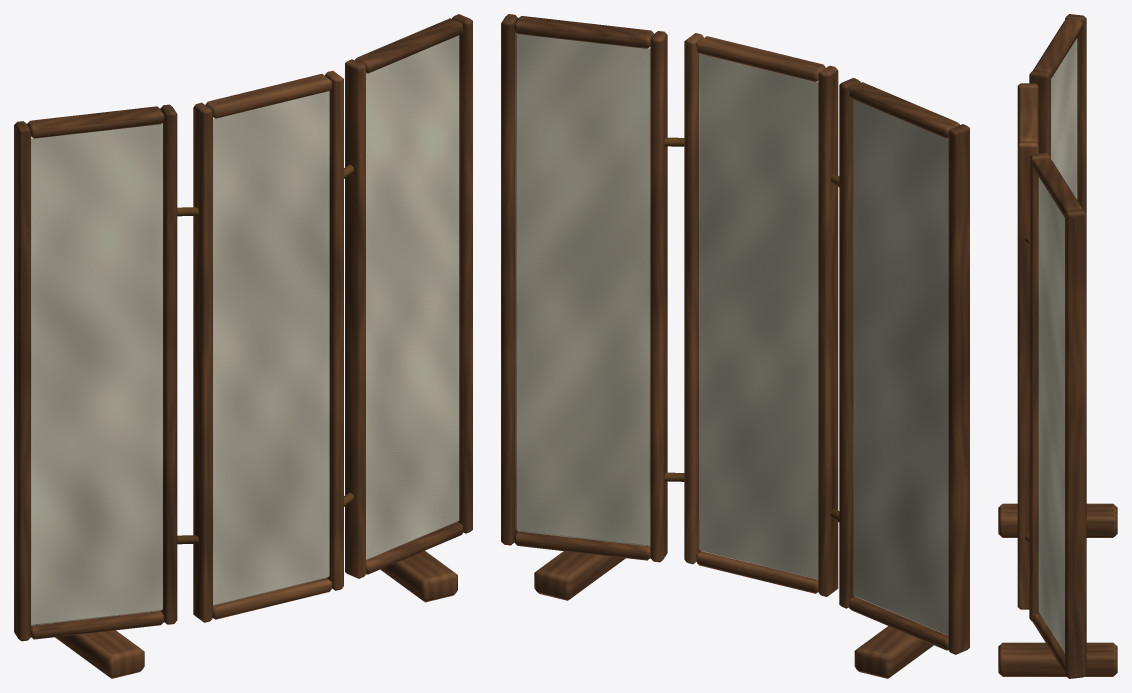
Rendered from Furn_Med_Screen.fbx.
The picture shows the model from 3 angles, left to right: view 1: azimuth 30°, elevation 25°; view 2: azimuth 150°, elevation 25°; view 3: azimuth 270°, elevation 25°; orthographic projection. The views are drawn at different scales.
Parts seen in each view (by area): view 1: Furn_Med_Screen; view 2: Furn_Med_Screen; view 3: Furn_Med_Screen.
Part boxes in pixels (box(x1,y1,x2,y2)): Furn_Med_Screen: box(14, 14, 472, 678); Furn_Med_Screen: box(501, 14, 969, 678); Furn_Med_Screen: box(998, 14, 1117, 678).
Bounding box in the file's own units: 1.6 × 1.8 × 0.4.
3 materials, 3 textured.
